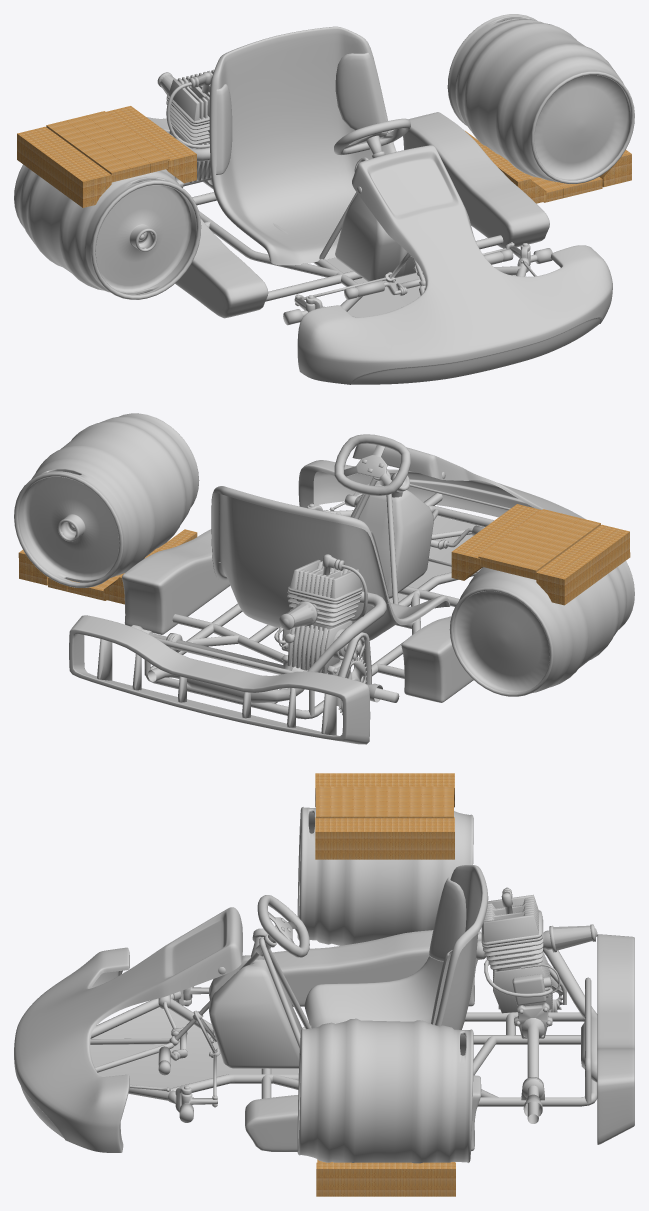
The model's file is CART BEER BARREL no wheels.FBX.
3 renders of one model, top to bottom at view 1: azimuth 30°, elevation 25°; view 2: azimuth 150°, elevation 25°; view 3: azimuth 270°, elevation 25°, orthographic. The views are drawn at different scales.
Parts seen in each view (by area): view 1: Object001, keg001, keg002, Box010, Box006, Box009, Box008, Box007, Box002, Box001; view 2: Object001, keg001, keg002, Box010, Box006, Box009, Box008, Box007, Box002, Box001; view 3: Object001, keg001, keg002, Box006, Box001, Box010, Box007, Box008, Box009.
Part boxes in pixels (x1,y1,x2,y2): Object001: (146,26,612,384); keg001: (447,14,634,183); keg002: (14,164,201,299); Box010: (17,126,111,207); Box006: (106,106,196,183); Box009: (46,120,130,182); Box008: (66,116,150,177); Box007: (85,111,169,172); Box002: (465,131,546,203); Box001: (599,150,631,187); Object001: (69,434,585,744); keg001: (14,413,199,587); keg002: (449,561,634,696); Box010: (536,524,630,605); Box006: (451,504,541,580); Box009: (517,518,600,579); Box008: (497,514,581,575); Box007: (478,509,562,570); Box002: (103,529,197,604); Box001: (18,550,47,585); Object001: (14,865,634,1152); keg001: (297,1018,473,1163); keg002: (297,807,473,945); Box006: (315,817,454,859); Box001: (316,1162,455,1196); Box010: (315,773,454,807); Box007: (316,806,453,818); Box008: (316,796,453,806); Box009: (316,786,453,796).
Size of the model in its own units: 106 by 31.51 by 96.65.
